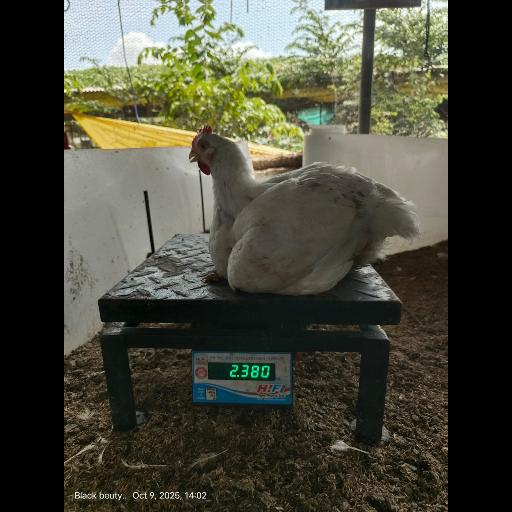chick: (191, 124, 420, 294)
